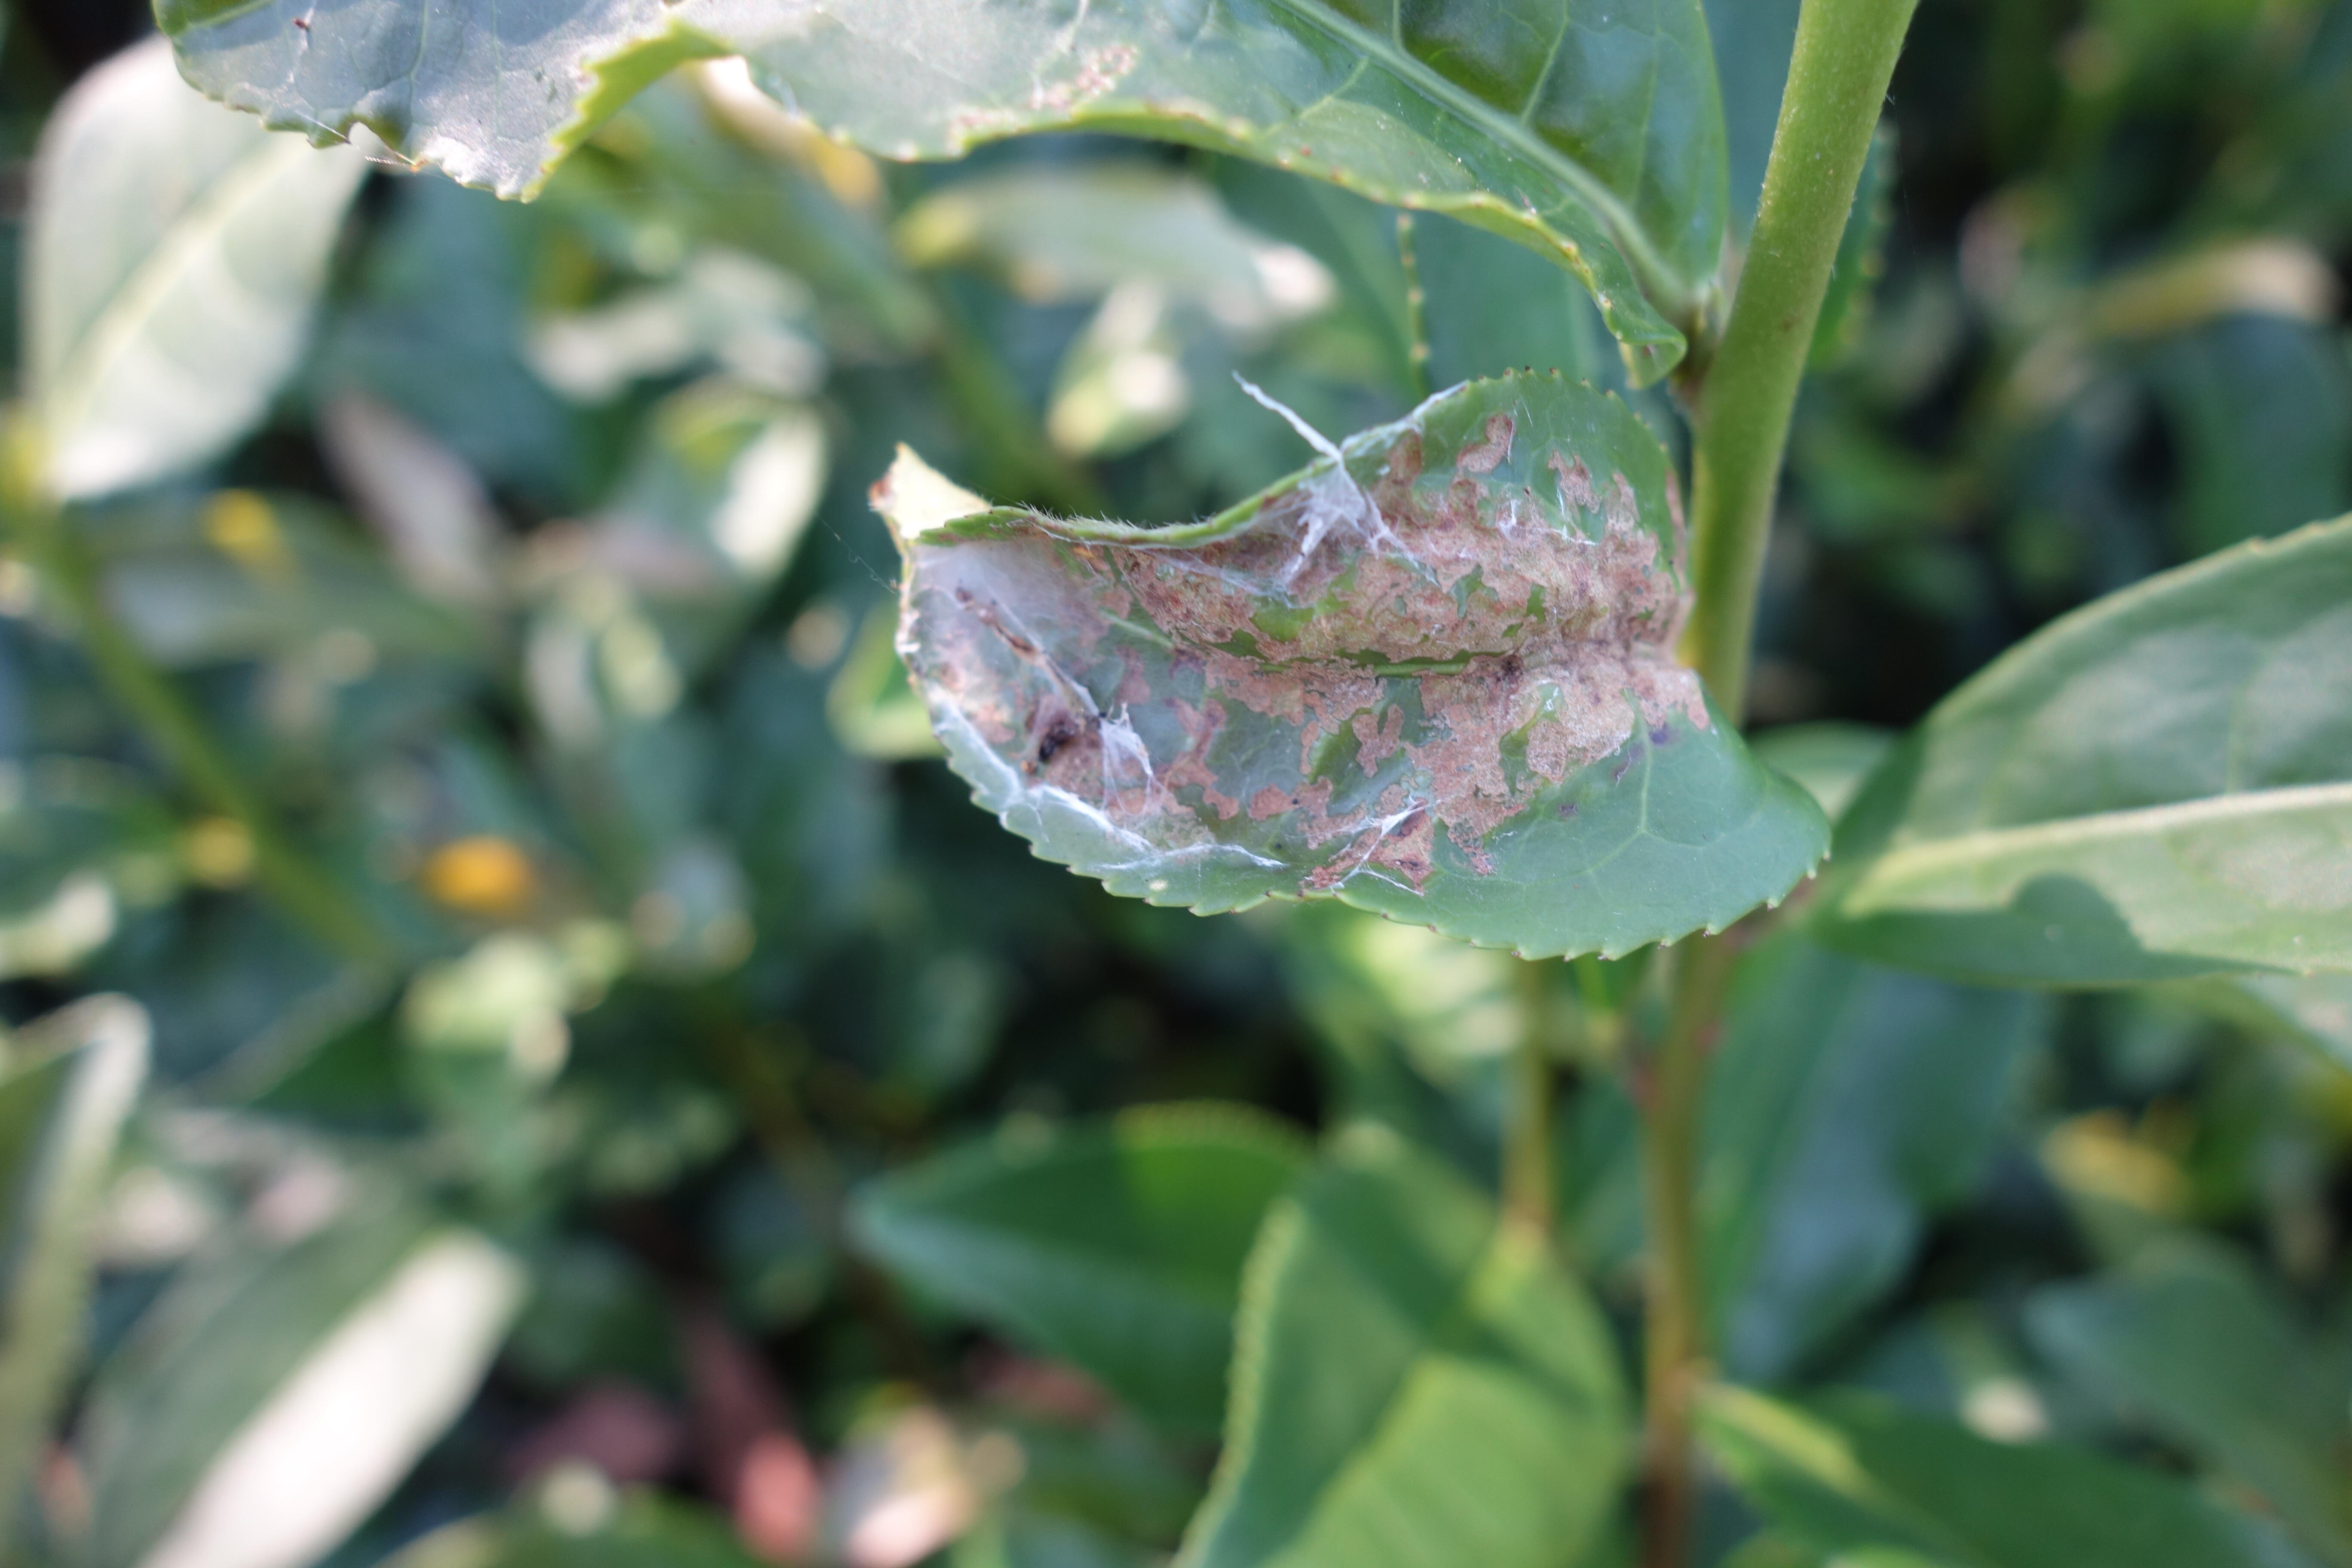tanju_high: (864, 367, 1836, 961)
